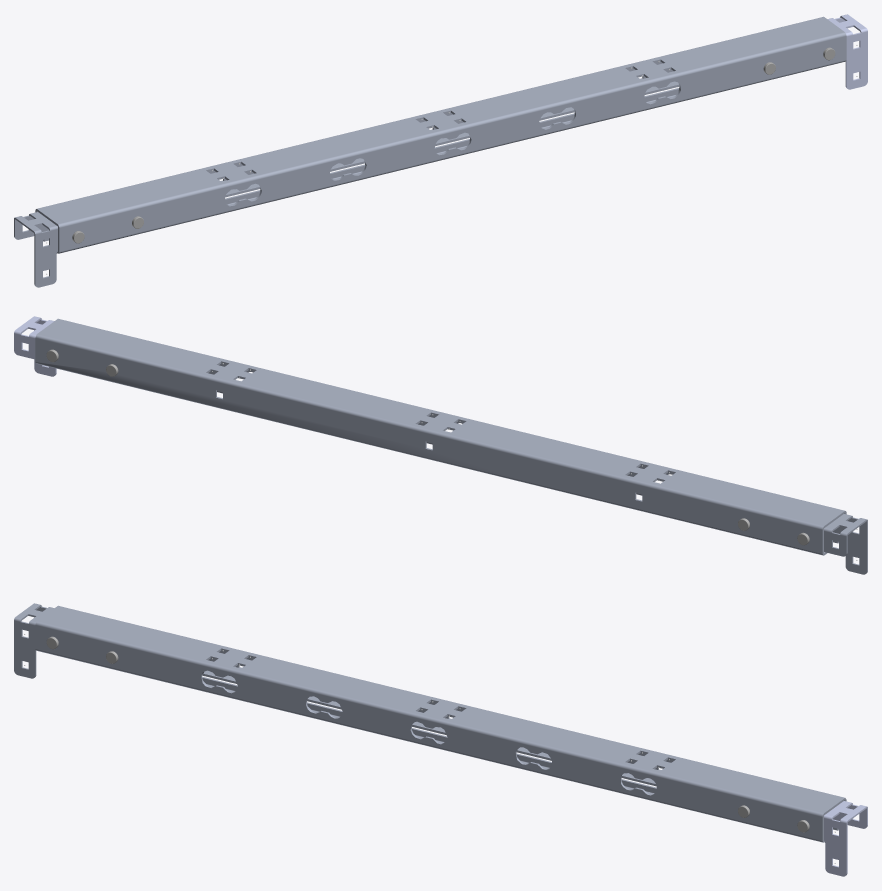
File: KMA40100.glb
The picture shows the model from 3 angles, top to bottom: view 1: azimuth 30°, elevation 25°; view 2: azimuth 150°, elevation 25°; view 3: azimuth 330°, elevation 25°; orthographic projection.
Visible parts, largest first — view 1: A-XMA40100-1, A-ABC00001S0001-1, A-ABC00001S0002-1; view 2: A-XMA40100-1, A-ABC00001S0001-1, A-ABC00001S0002-1; view 3: A-XMA40100-1, A-ABC00001S0002-1, A-ABC00001S0001-1.
Part boxes in pixels (bbox=[...]): A-XMA40100-1: bbox=[35, 16, 846, 253]; A-ABC00001S0001-1: bbox=[14, 212, 57, 287]; A-ABC00001S0002-1: bbox=[827, 14, 867, 89]; A-XMA40100-1: bbox=[35, 318, 846, 555]; A-ABC00001S0001-1: bbox=[824, 514, 867, 574]; A-ABC00001S0002-1: bbox=[14, 316, 56, 376]; A-XMA40100-1: bbox=[35, 605, 846, 842]; A-ABC00001S0002-1: bbox=[824, 801, 867, 876]; A-ABC00001S0001-1: bbox=[14, 603, 54, 678].
Size of the model in its own units: 1.01 by 0.0687 by 0.058.
